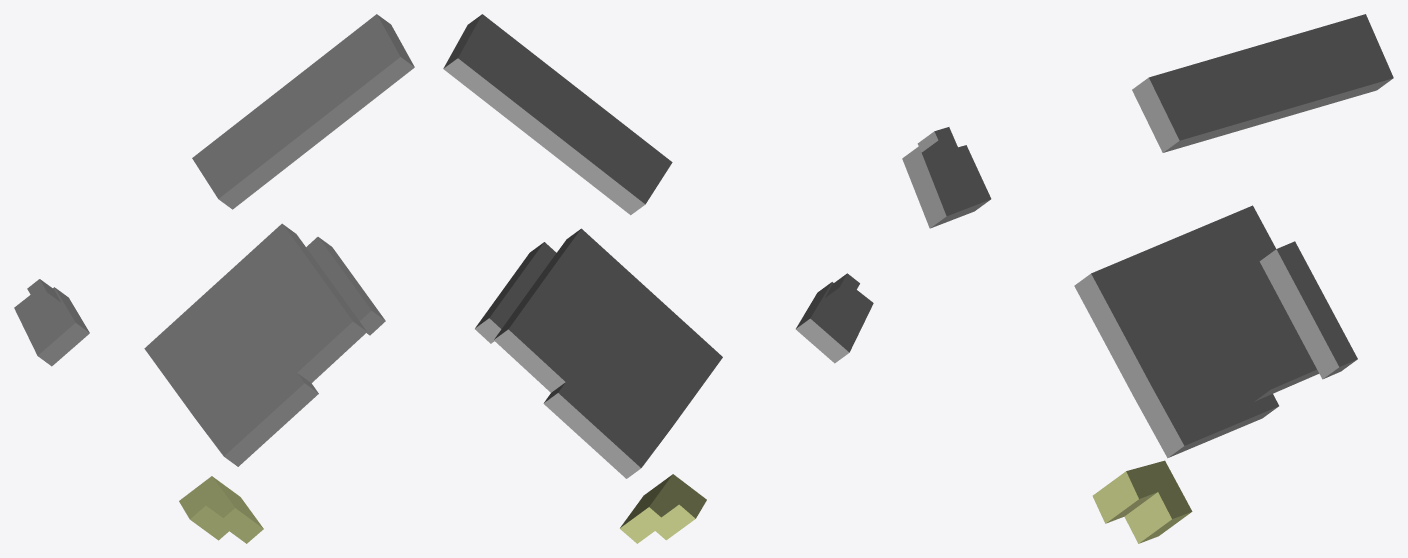
3 renders of one model, left to right at view 1: azimuth 30°, elevation 25°; view 2: azimuth 150°, elevation 25°; view 3: azimuth 330°, elevation 25°, orthographic. The views are drawn at different scales.
Visible parts, largest first — view 1: 0_2_3_2_1_2_3_3_0; view 2: 0_2_3_2_1_2_3_3_0; view 3: 0_2_3_2_1_2_3_3_0.
Part boxes in pixels (box(x1,y1,x2,y2)): 0_2_3_2_1_2_3_3_0: box(14, 14, 414, 543); 0_2_3_2_1_2_3_3_0: box(443, 14, 873, 543); 0_2_3_2_1_2_3_3_0: box(902, 14, 1393, 543).
Size of the model in its own units: 47.65 by 53.81 by 6.63.
